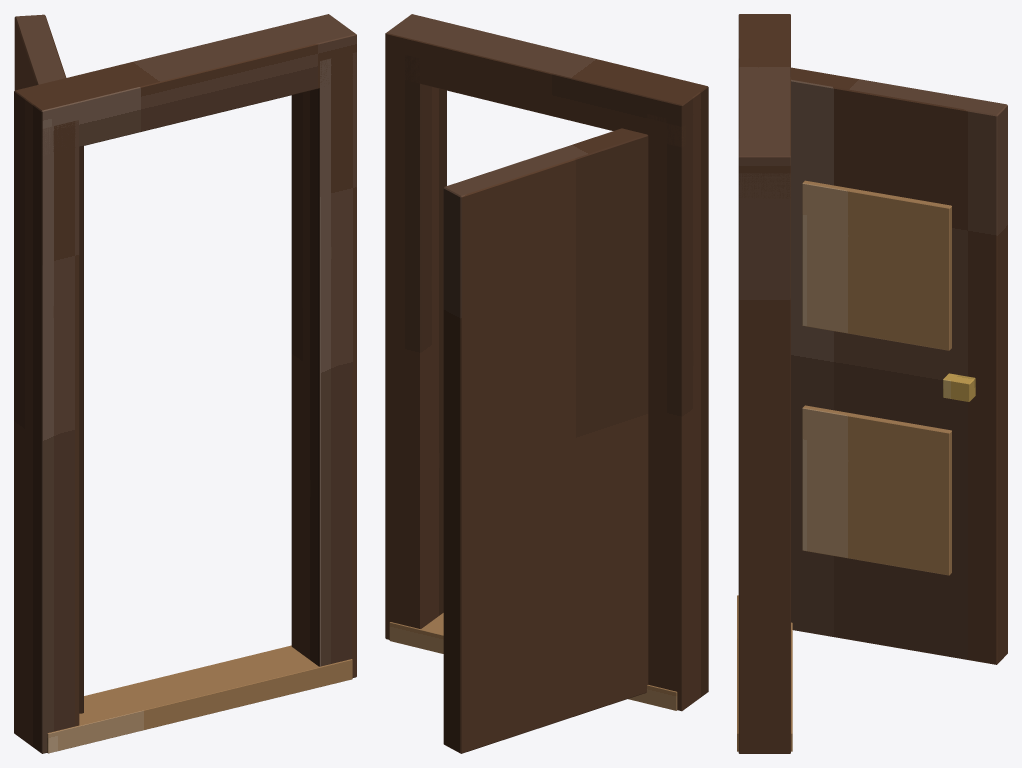
The model's file is normal_room_door.glb.
The picture shows the model from 3 angles, left to right: view 1: azimuth 30°, elevation 25°; view 2: azimuth 150°, elevation 25°; view 3: azimuth 270°, elevation 25°; orthographic projection. The views are drawn at different scales.
Parts seen in each view (by area): view 1: DoorFrameL, DoorFrameR, DoorFrameTop, Threshold, OpenDoorLeaf; view 2: OpenDoorLeaf, DoorFrameL, DoorFrameR, DoorFrameTop, Threshold; view 3: OpenDoorLeaf, DoorFrameR, DoorPanel_1, DoorPanel_2, DoorFrameTop, DoorHandle, Threshold.
Boxes of the visible parts, bbox=[...] form: DoorFrameL: bbox=[14, 109, 79, 753]; DoorFrameR: bbox=[291, 52, 356, 677]; DoorFrameTop: bbox=[14, 14, 356, 153]; Threshold: bbox=[47, 645, 352, 753]; OpenDoorLeaf: bbox=[14, 14, 83, 713]; OpenDoorLeaf: bbox=[443, 128, 648, 753]; DoorFrameL: bbox=[647, 103, 708, 711]; DoorFrameR: bbox=[385, 50, 446, 639]; DoorFrameTop: bbox=[385, 14, 708, 147]; Threshold: bbox=[389, 613, 677, 710]; OpenDoorLeaf: bbox=[791, 67, 1007, 664]; DoorFrameR: bbox=[738, 173, 790, 753]; DoorPanel_1: bbox=[802, 405, 951, 575]; DoorPanel_2: bbox=[802, 180, 951, 350]; DoorFrameTop: bbox=[738, 14, 790, 198]; DoorHandle: bbox=[943, 373, 975, 401]; Threshold: bbox=[737, 595, 792, 751].
Size of the model in its own units: 1.16 by 2.26 by 0.9282.
Materials: 1 (1 with a texture image).
